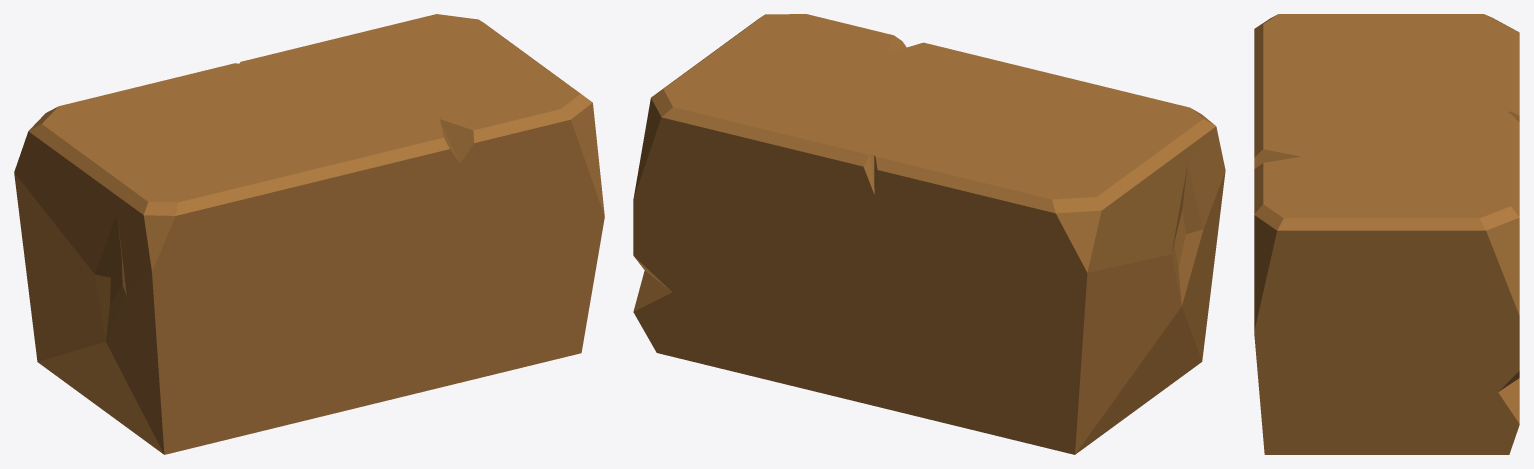
File: BlockSandStoneB.fbx
The picture shows the model from 3 angles, left to right: view 1: azimuth 30°, elevation 25°; view 2: azimuth 150°, elevation 25°; view 3: azimuth 270°, elevation 25°; orthographic projection. The views are drawn at different scales.
Parts seen in each view (by area): view 1: BlockSandStoneB; view 2: BlockSandStoneB; view 3: BlockSandStoneB.
Boxes of the visible parts, x1=… form: BlockSandStoneB: x1=14, y1=14, x2=604, y2=454; BlockSandStoneB: x1=633, y1=14, x2=1225, y2=454; BlockSandStoneB: x1=1254, y1=14, x2=1519, y2=454.
Size of the model in its own units: 66.56 by 34.97 by 34.97.
